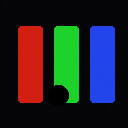2 circle: (48, 85, 68, 105)
